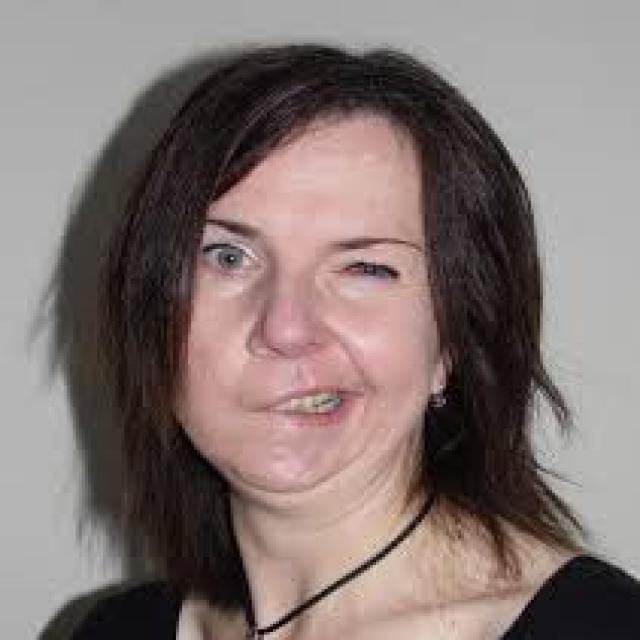stroke_face: (154, 68, 492, 524)
